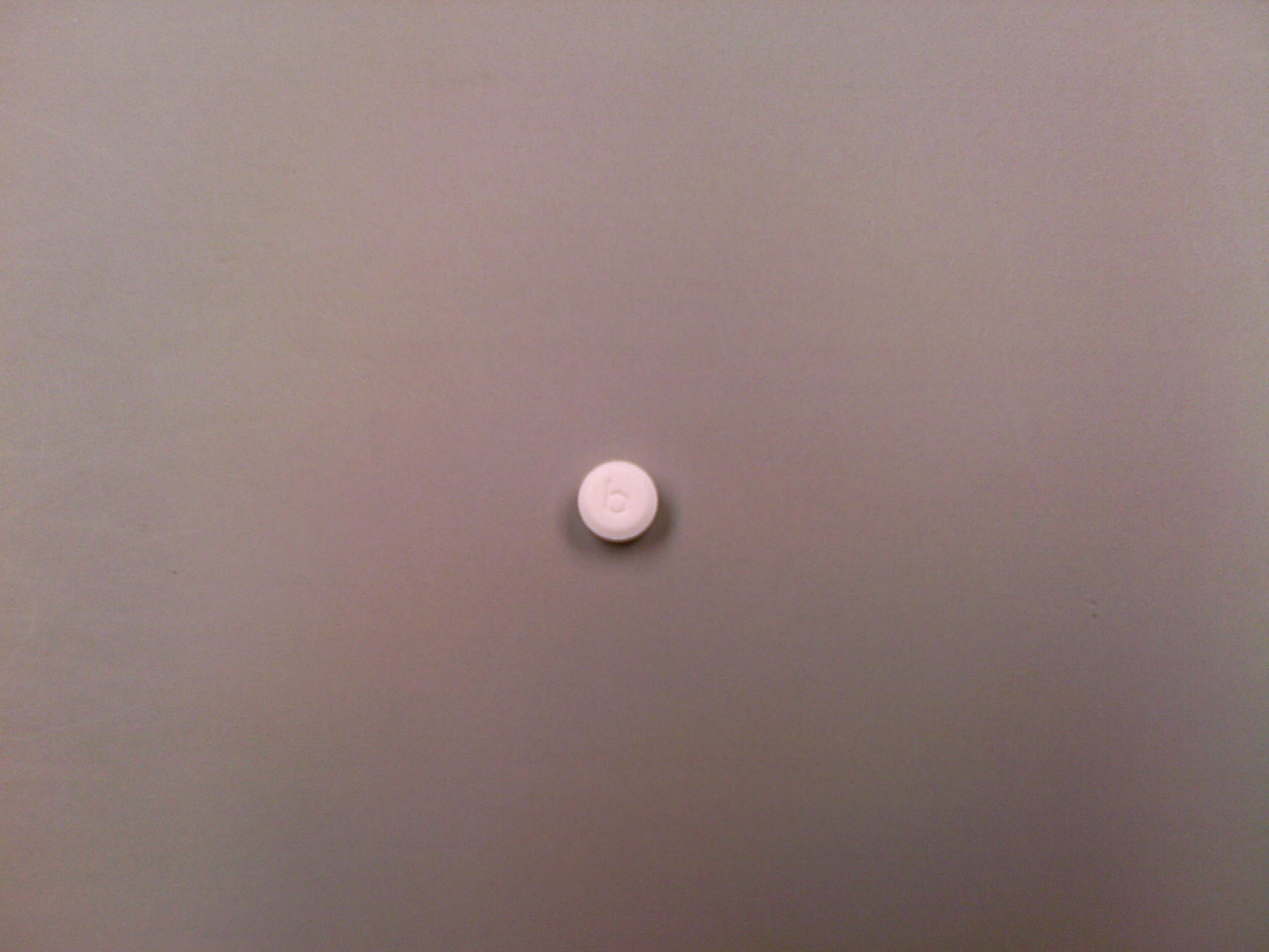Pill: (566, 455, 667, 551)
